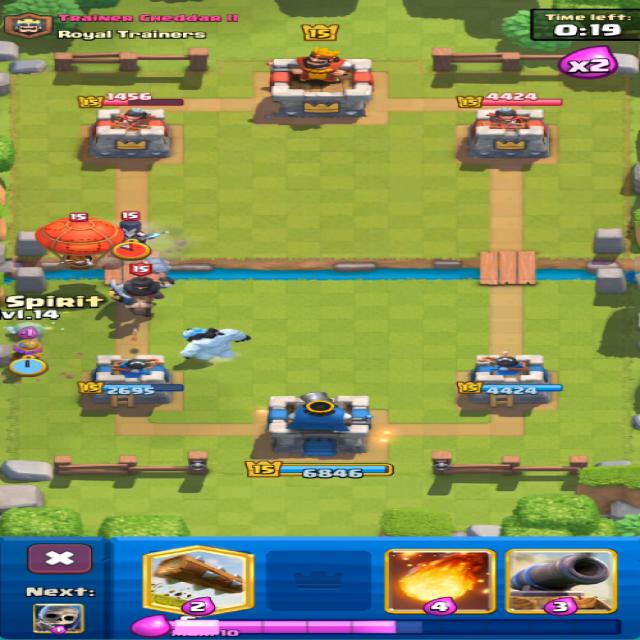Enemy-Balloon: (37, 213, 123, 269)
Enemy-DarkPrince-Shield-Charge: (110, 257, 174, 316)
Enemy-KingTower: (270, 47, 372, 116)
Enemy-NightWitch: (119, 212, 168, 244)
Enemy-PrincessTower: (468, 108, 549, 161), (88, 109, 170, 161)
Player-IceGolem: (180, 327, 250, 361)
Player-KingTower-Activated: (268, 392, 372, 456)
Player-Musketeer: (14, 339, 40, 359), (212, 344, 214, 345)
Player-PrincessTower: (457, 351, 562, 406), (78, 354, 183, 406)
